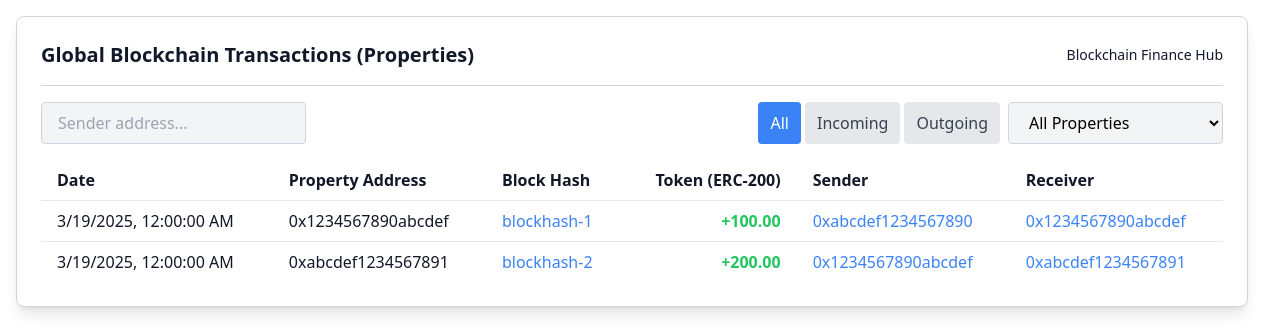
GlobalTransactionsCard Invalid Tests › renders transactions but invalid input returns 'No transactions match your search.'
Expected: the row with test id "transaction-1" is shown, [41,200,1223,242]
Expected: the row with test id "transaction-2" is shown, [41,242,1223,282]
// Simulate typing the search term "0xabcdef1234567890" to filter the transactions
Step 1. Type "rhewjjhwejqfnw geffwwgerfgwqrewgd" into the field with placeholder "Sender address..." → (174, 123), box [41,102,306,144]
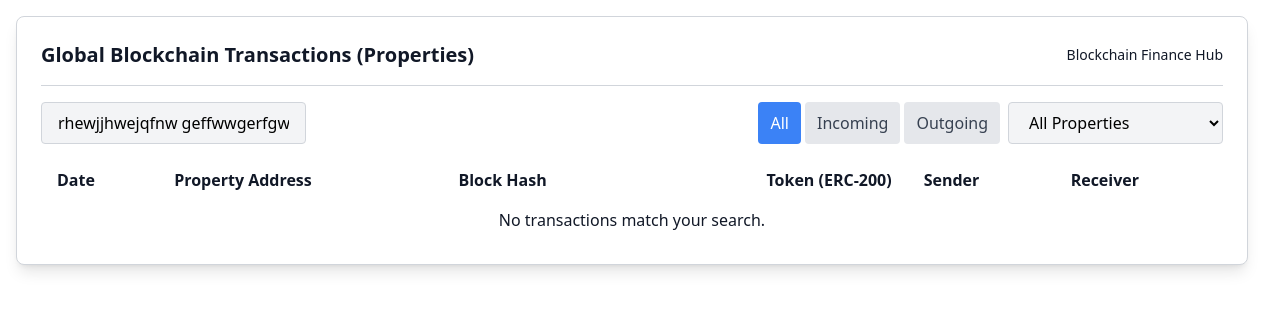
Result: the text "No transactions match your search." is shown at [41,200,1223,240]
